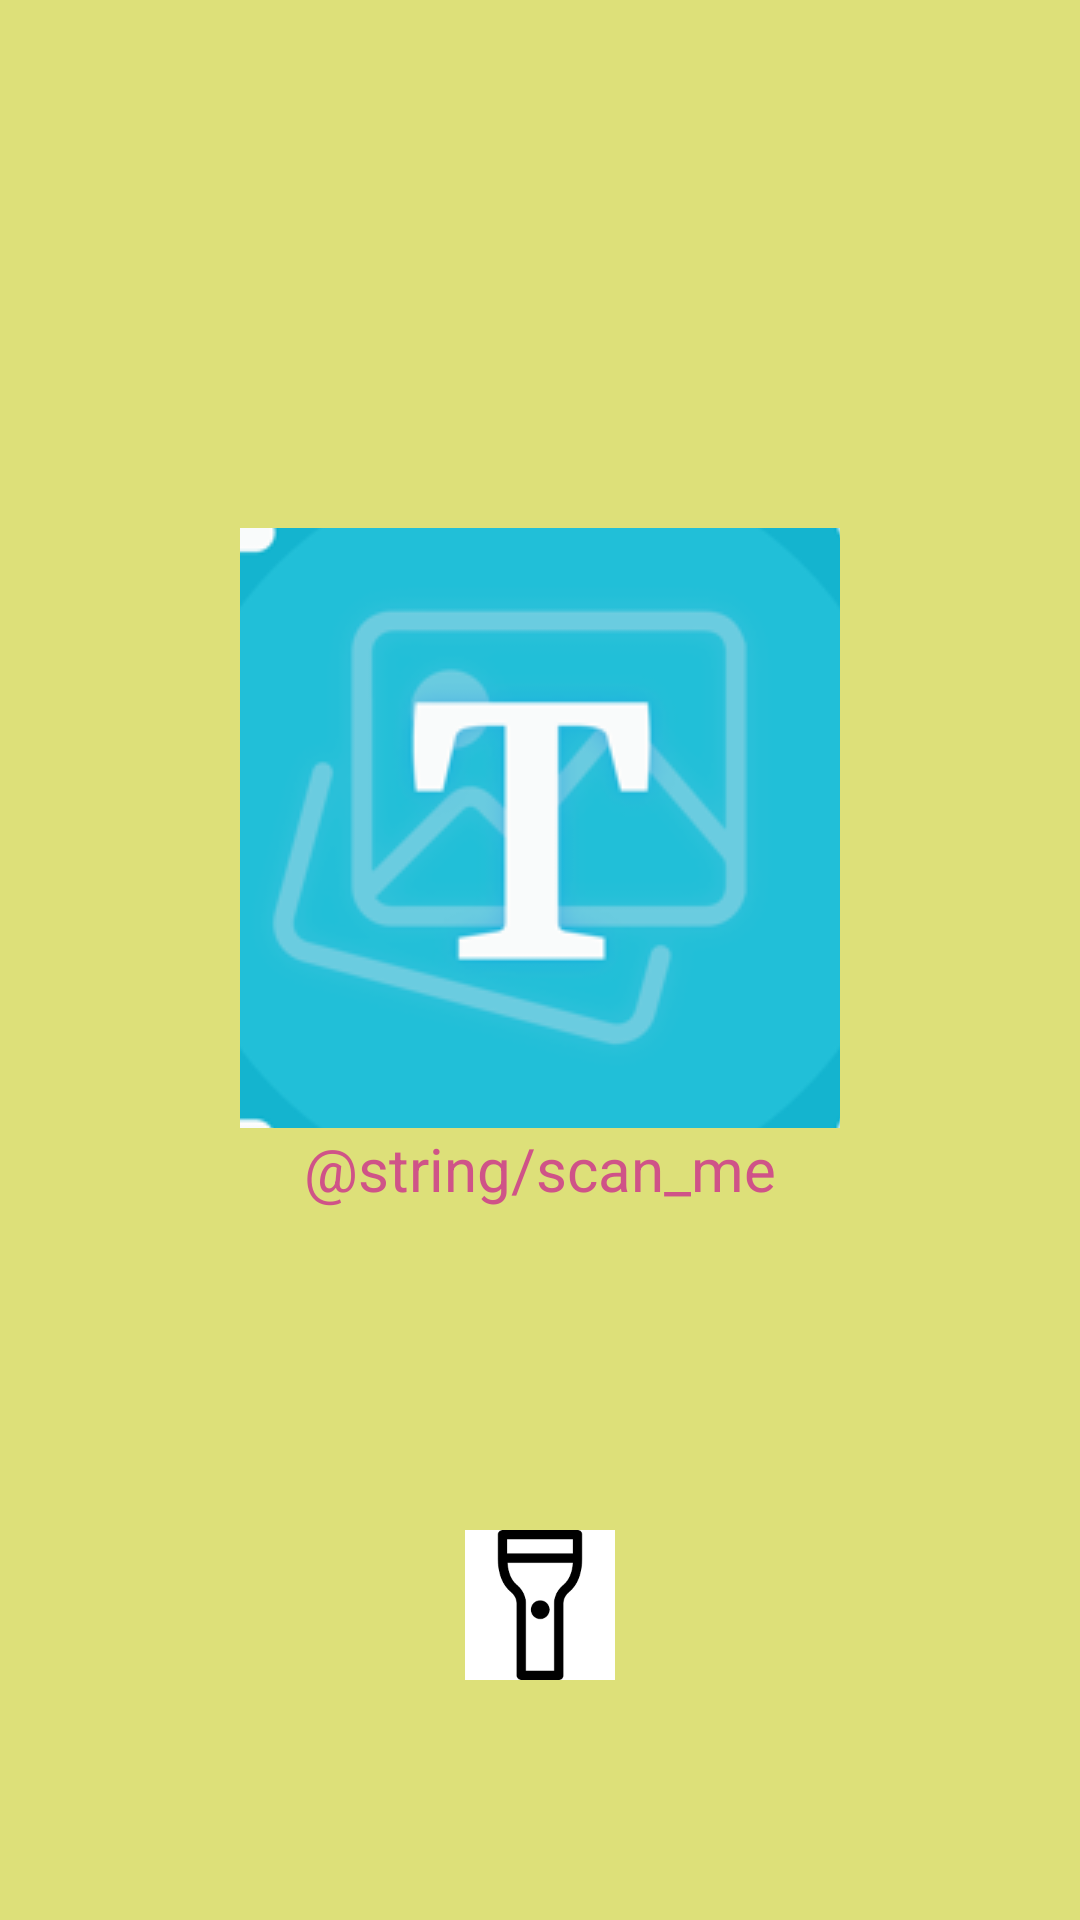

Icons on this 1080x1920 Android screen, each with the point to tap as (x=x, y=y):
torch: (x=540, y=1605)
